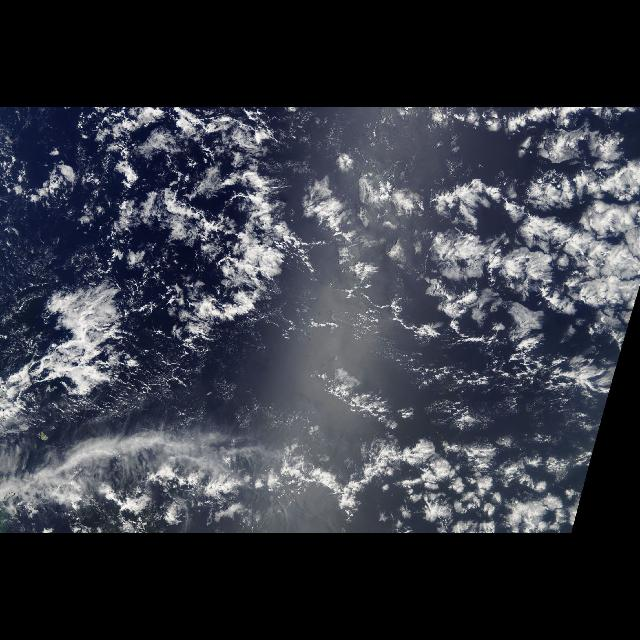Flower: (170, 117, 640, 401), (339, 428, 573, 532)
Gravel: (16, 125, 278, 385)
